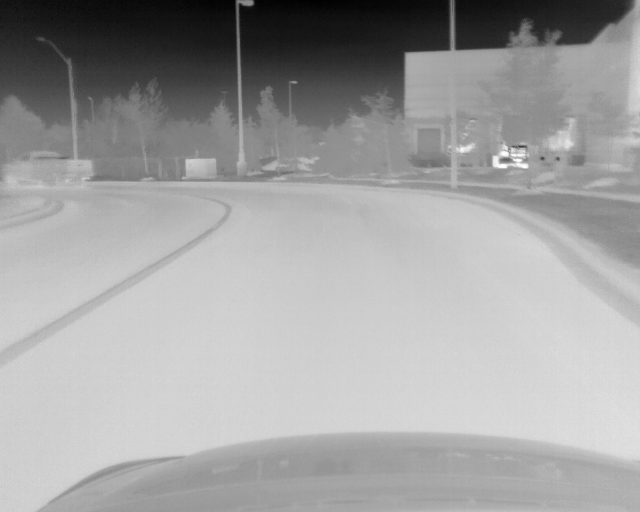car: (1, 150, 93, 187)
